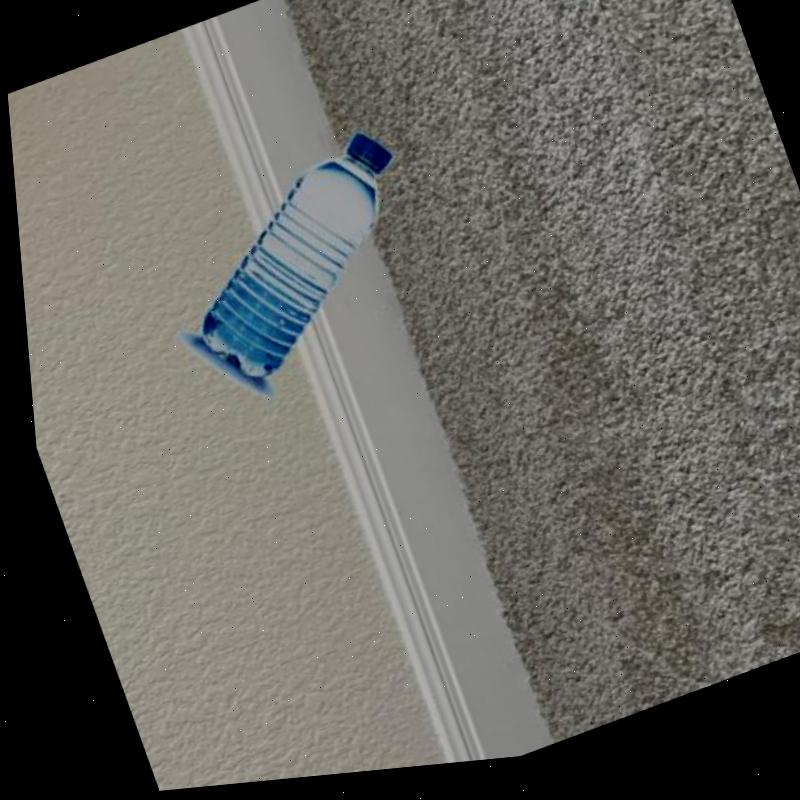botella: (149, 129, 444, 402)
